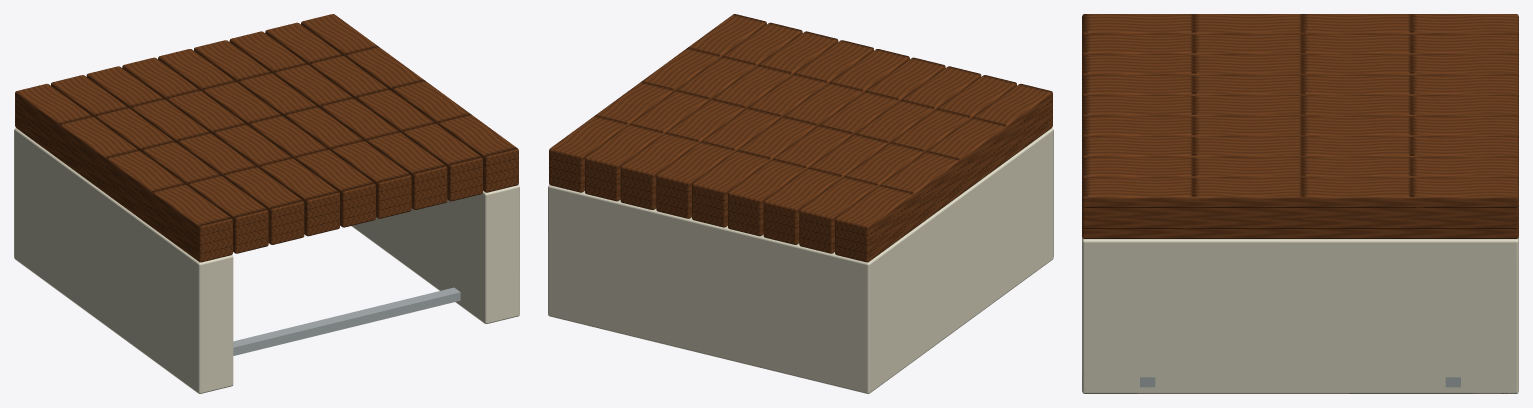
Rendered from modular-survival-base-builder-retaining-foundation-rei-aead6ecd__24275.glb.
3 views of the same model, side by side, from view 1: azimuth 30°, elevation 25°; view 2: azimuth 150°, elevation 25°; view 3: azimuth 270°, elevation 25° (orthographic). The views are drawn at different scales.
Visible parts, largest first — view 1: retaining-foundation-reinforced; view 2: retaining-foundation-reinforced; view 3: retaining-foundation-reinforced.
Boxes of the visible parts, x1,y1,x2,y2 form: retaining-foundation-reinforced: (14,14,519,393); retaining-foundation-reinforced: (548,14,1053,393); retaining-foundation-reinforced: (1082,14,1518,393).
Bounding box in the file's own units: 2 × 0.9999 × 2.
3 materials, 1 textured.
